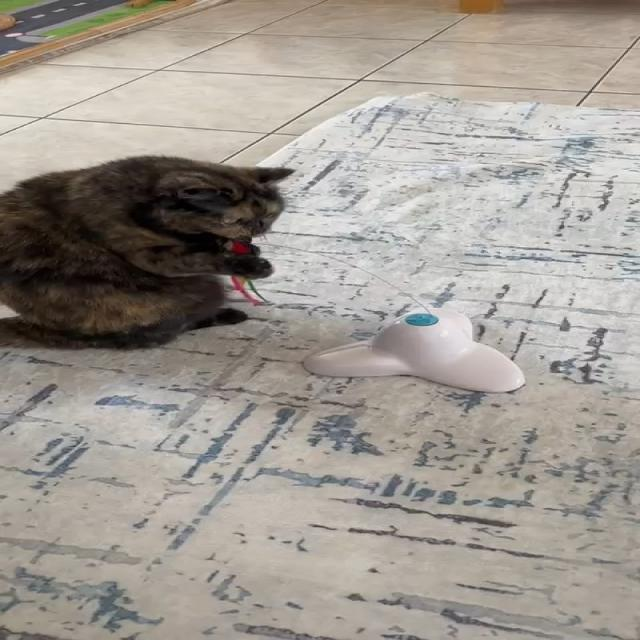authorized: (0, 154, 296, 350)
